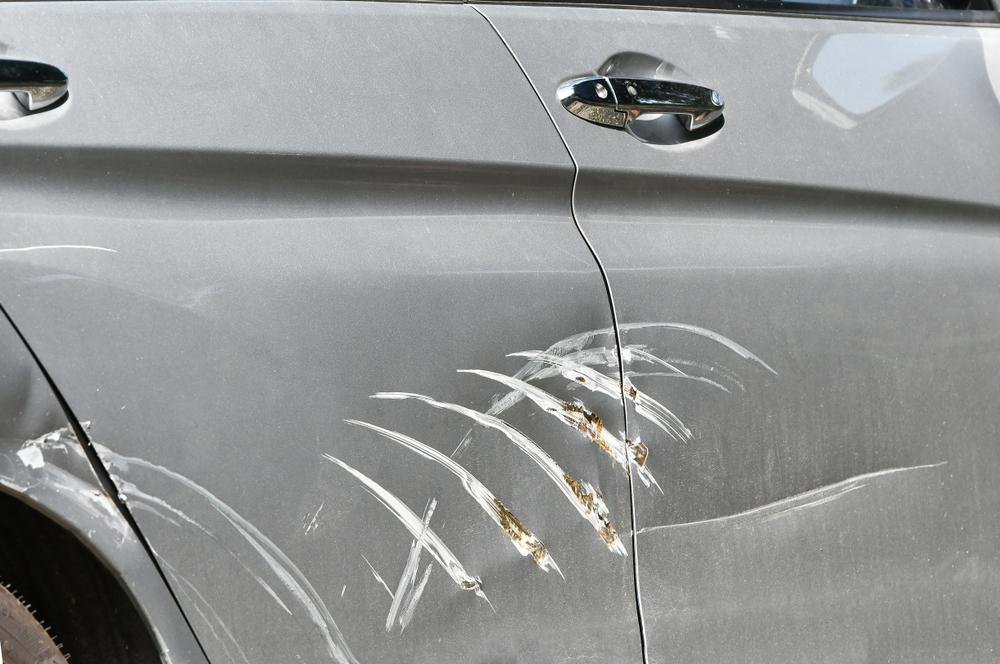dent: (0, 363, 104, 512)
scratch: (310, 320, 631, 637), (616, 319, 950, 540), (90, 440, 362, 664)
